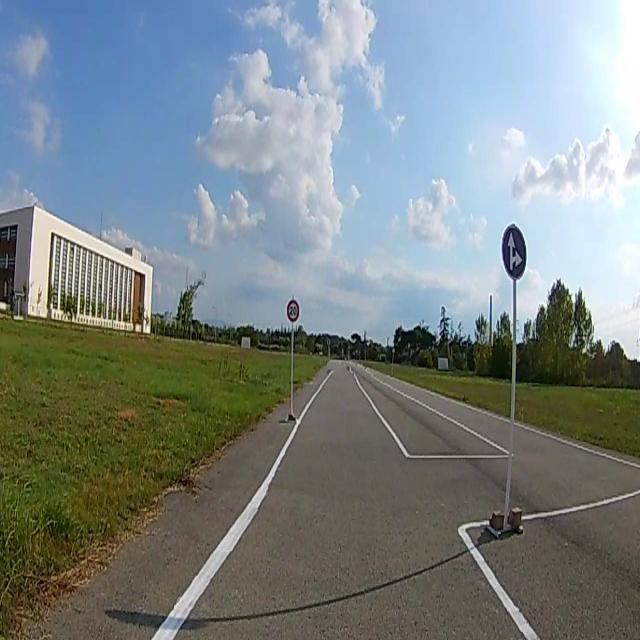20: (287, 298, 299, 322)
ilerisag: (502, 222, 527, 278)
